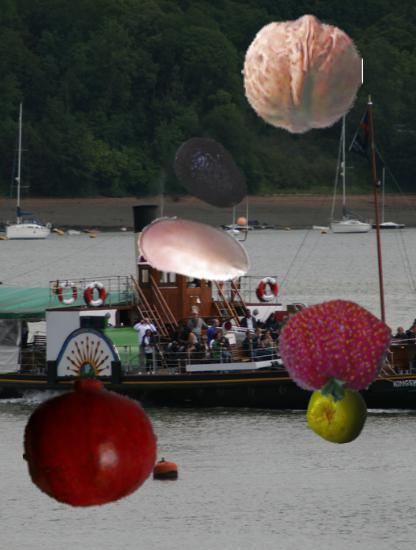Avocado: (169, 133, 253, 217)
Hazelnut: (135, 191, 254, 310)
Pomegranate: (22, 375, 158, 511)
Pomelo: (305, 380, 370, 445)
Strawberry: (280, 291, 396, 407)
Walnut: (241, 13, 364, 136)
